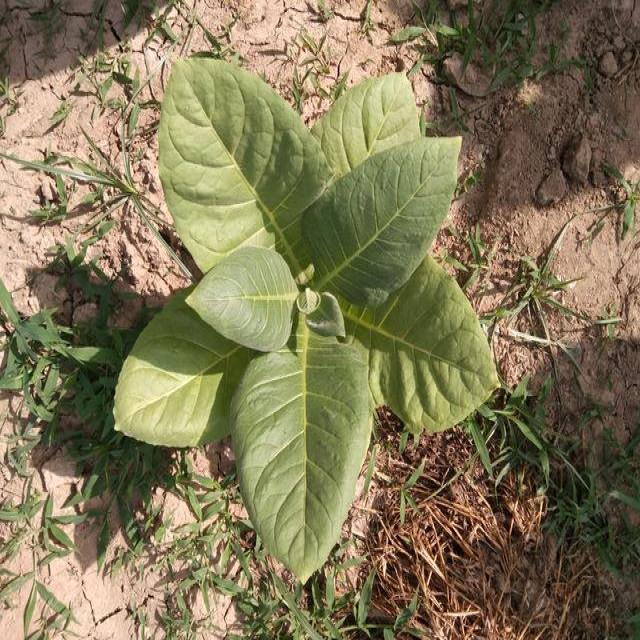crop: (115, 54, 503, 588)
